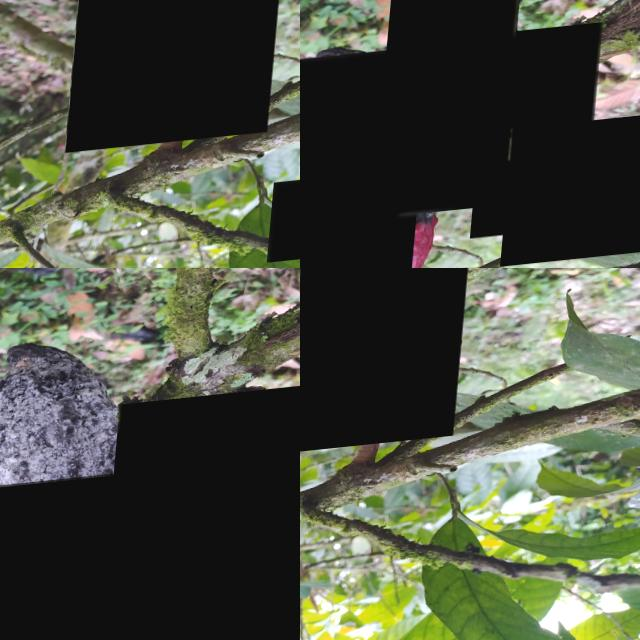Fitoftora: (99, 396, 300, 640), (377, 0, 527, 226), (300, 268, 479, 457), (72, 0, 287, 157), (300, 53, 434, 268), (0, 478, 172, 640)
Sana: (477, 34, 605, 248), (506, 125, 640, 268), (277, 188, 300, 268)
